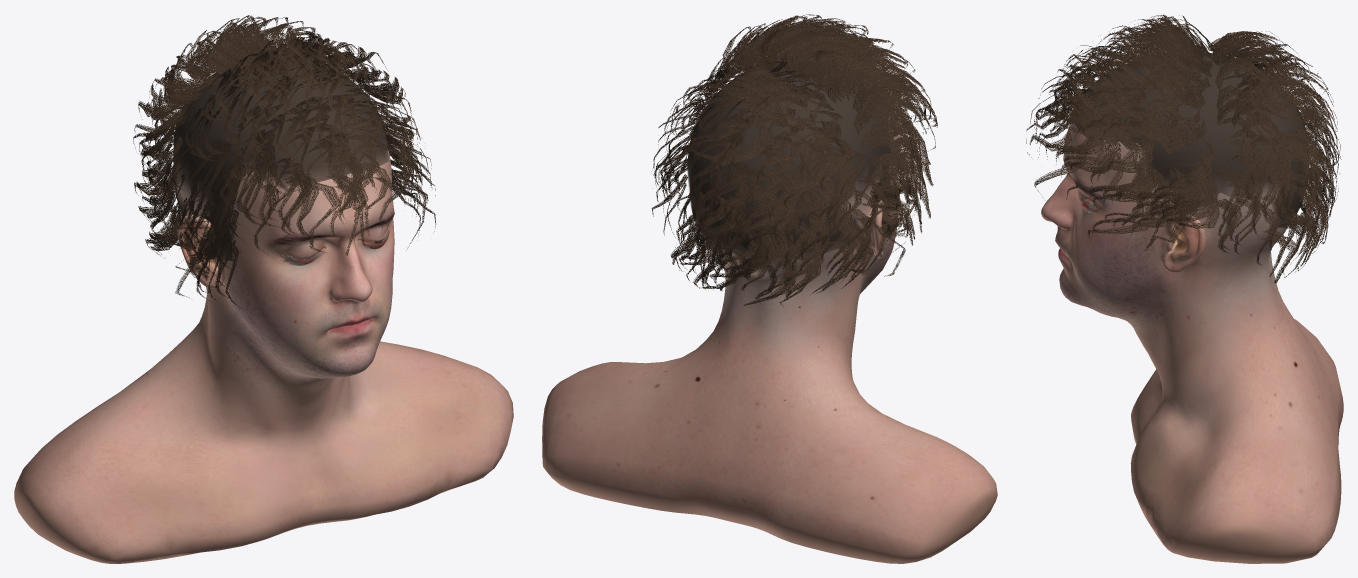
Rendered from street01-head-scan.glb.
3 views of the same model, side by side, from view 1: azimuth 30°, elevation 25°; view 2: azimuth 150°, elevation 25°; view 3: azimuth 270°, elevation 25° (orthographic). The views are drawn at different scales.
Parts seen in each view (by area): view 1: Street01_ScanHead, Tousled layered strand cards, Scalp undercoverage; view 2: Street01_ScanHead, Tousled layered strand cards, Scalp undercoverage; view 3: Street01_ScanHead, Tousled layered strand cards, Scalp undercoverage.
Part boxes in pixels (x1,y1,x2,y2): Street01_ScanHead: (14,135,513,563); Tousled layered strand cards: (133,15,435,307); Scalp undercoverage: (173,59,389,262); Street01_ScanHead: (542,117,997,563); Tousled layered strand cards: (651,14,937,309); Scalp undercoverage: (687,63,891,257); Street01_ScanHead: (1041,122,1343,563); Tousled layered strand cards: (1026,14,1341,283); Scalp undercoverage: (1073,52,1309,238).
Size of the model in its own units: 0.4736 by 0.4782 by 0.3007.
6 materials, 2 textured.
